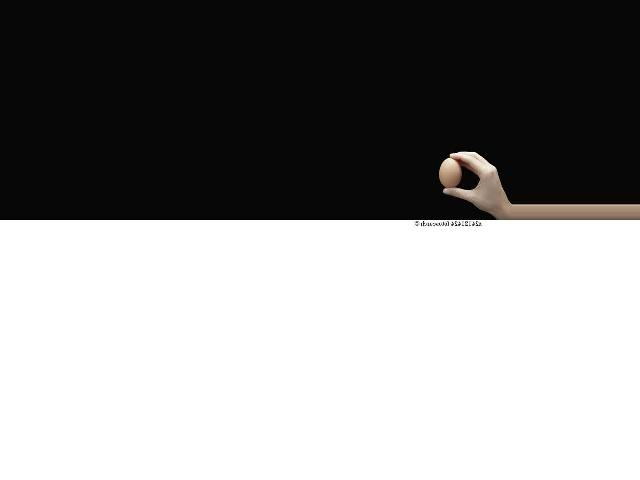egg: (438, 157, 461, 188)
